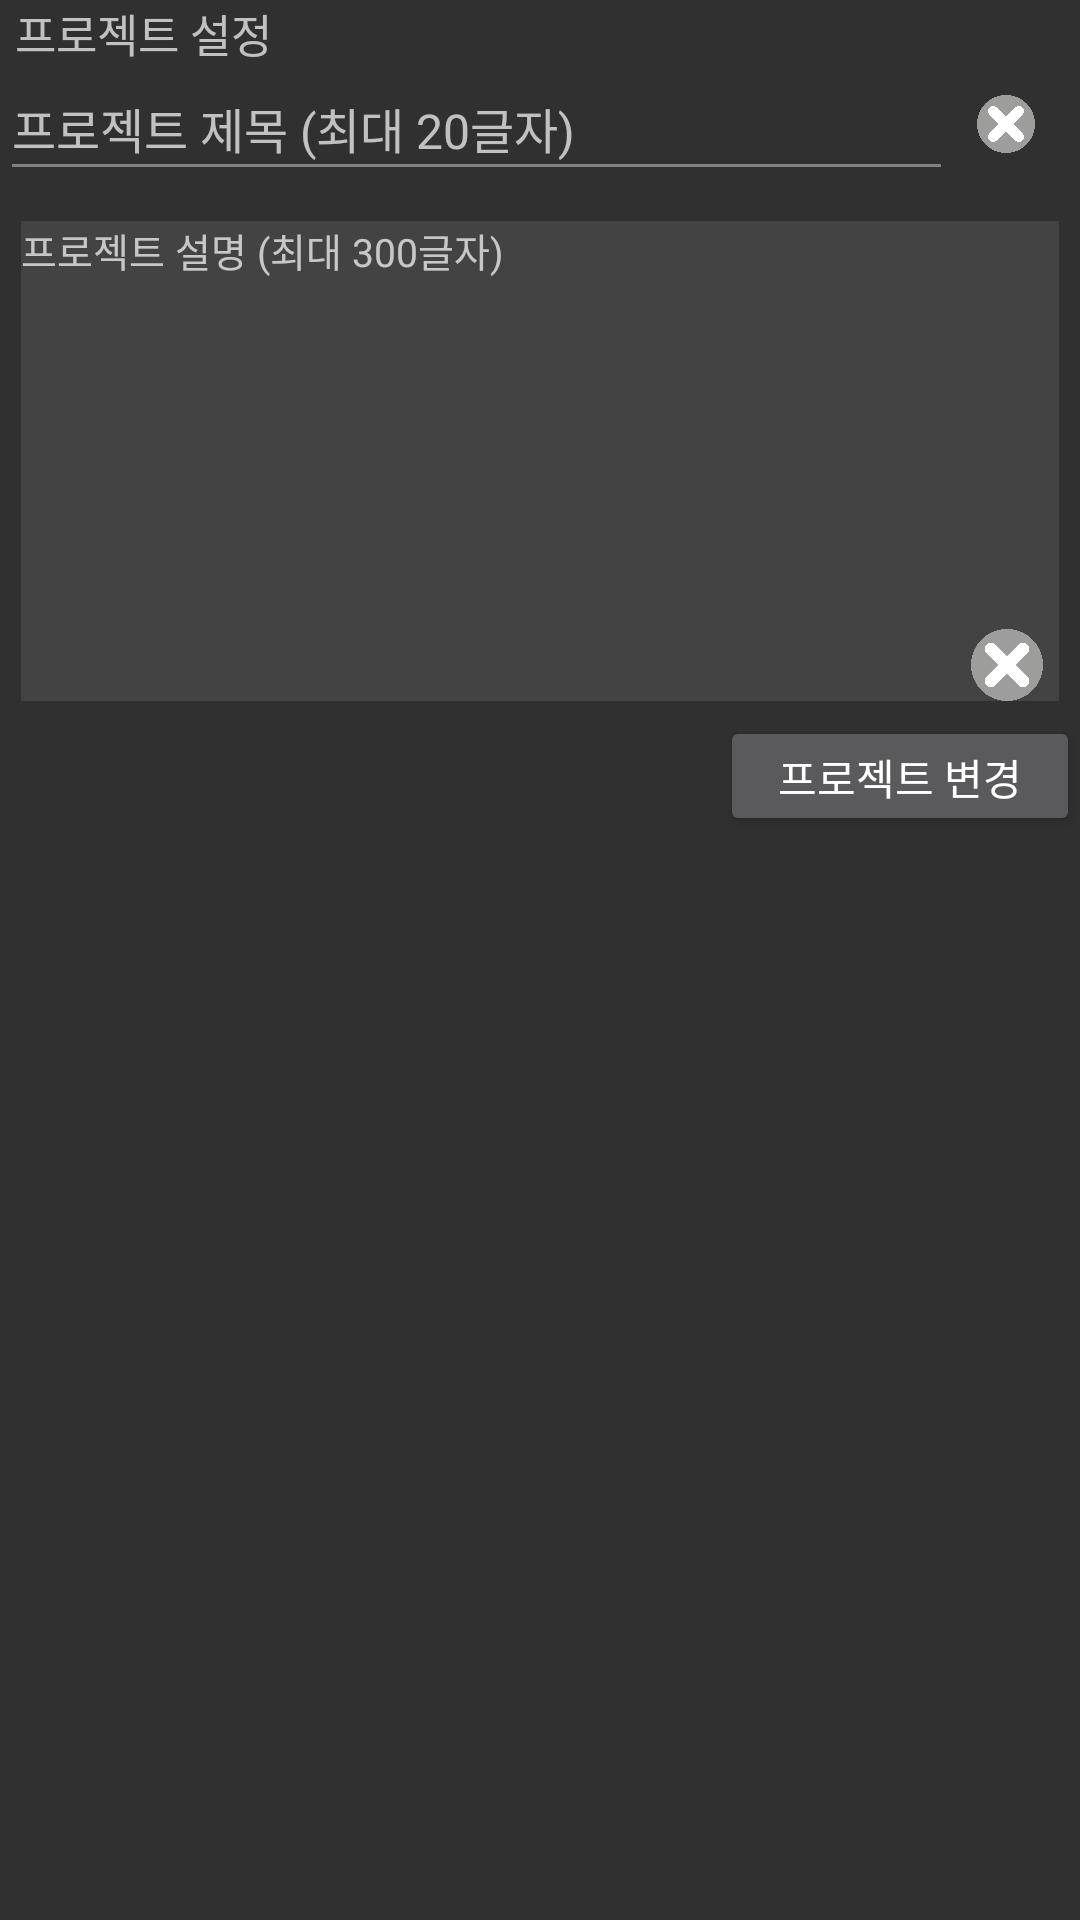

Named icons in this screenshot (1080x1920) and their centers, (x,y):
all del: (1006,124), (1007,665)
